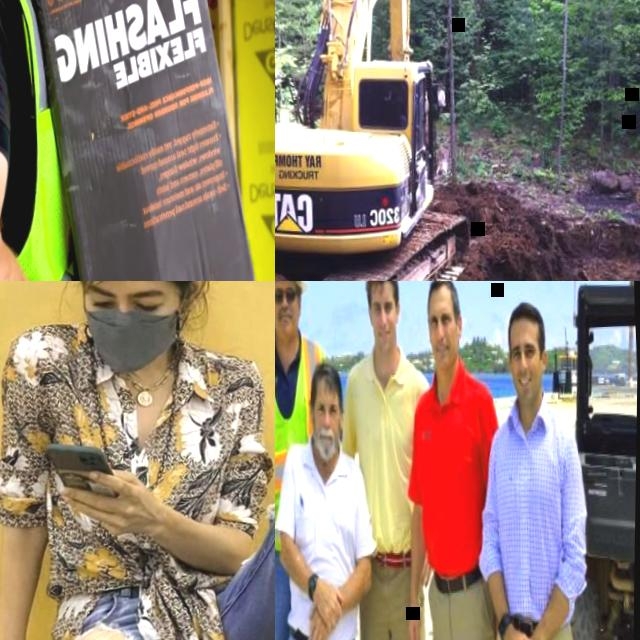Mask: (89, 305, 183, 372)
NO-Hardhat: (508, 297, 546, 329), (311, 362, 343, 398), (426, 281, 460, 304)
NO-Mask: (431, 342, 460, 375), (513, 370, 538, 401), (275, 310, 299, 342), (375, 323, 396, 353)
NO-Safety Vest: (31, 341, 243, 598), (282, 440, 369, 640), (494, 412, 578, 613), (415, 377, 493, 581), (352, 360, 428, 557)
Person: (0, 281, 275, 640), (0, 0, 188, 281), (466, 293, 601, 640), (392, 281, 516, 640), (326, 281, 446, 640), (275, 355, 385, 640), (275, 281, 345, 640)
Safety Vest: (0, 0, 98, 281), (275, 333, 334, 546)
vehicle: (275, 0, 479, 281)
